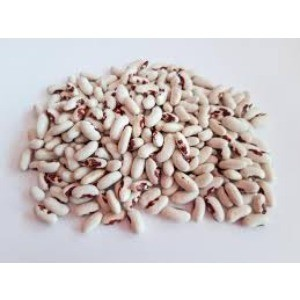beans_brain food: (78, 93, 200, 206)
